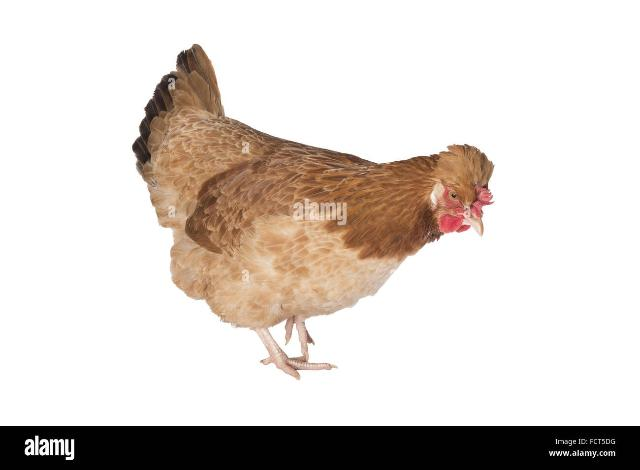Chicken: (131, 45, 494, 381)
